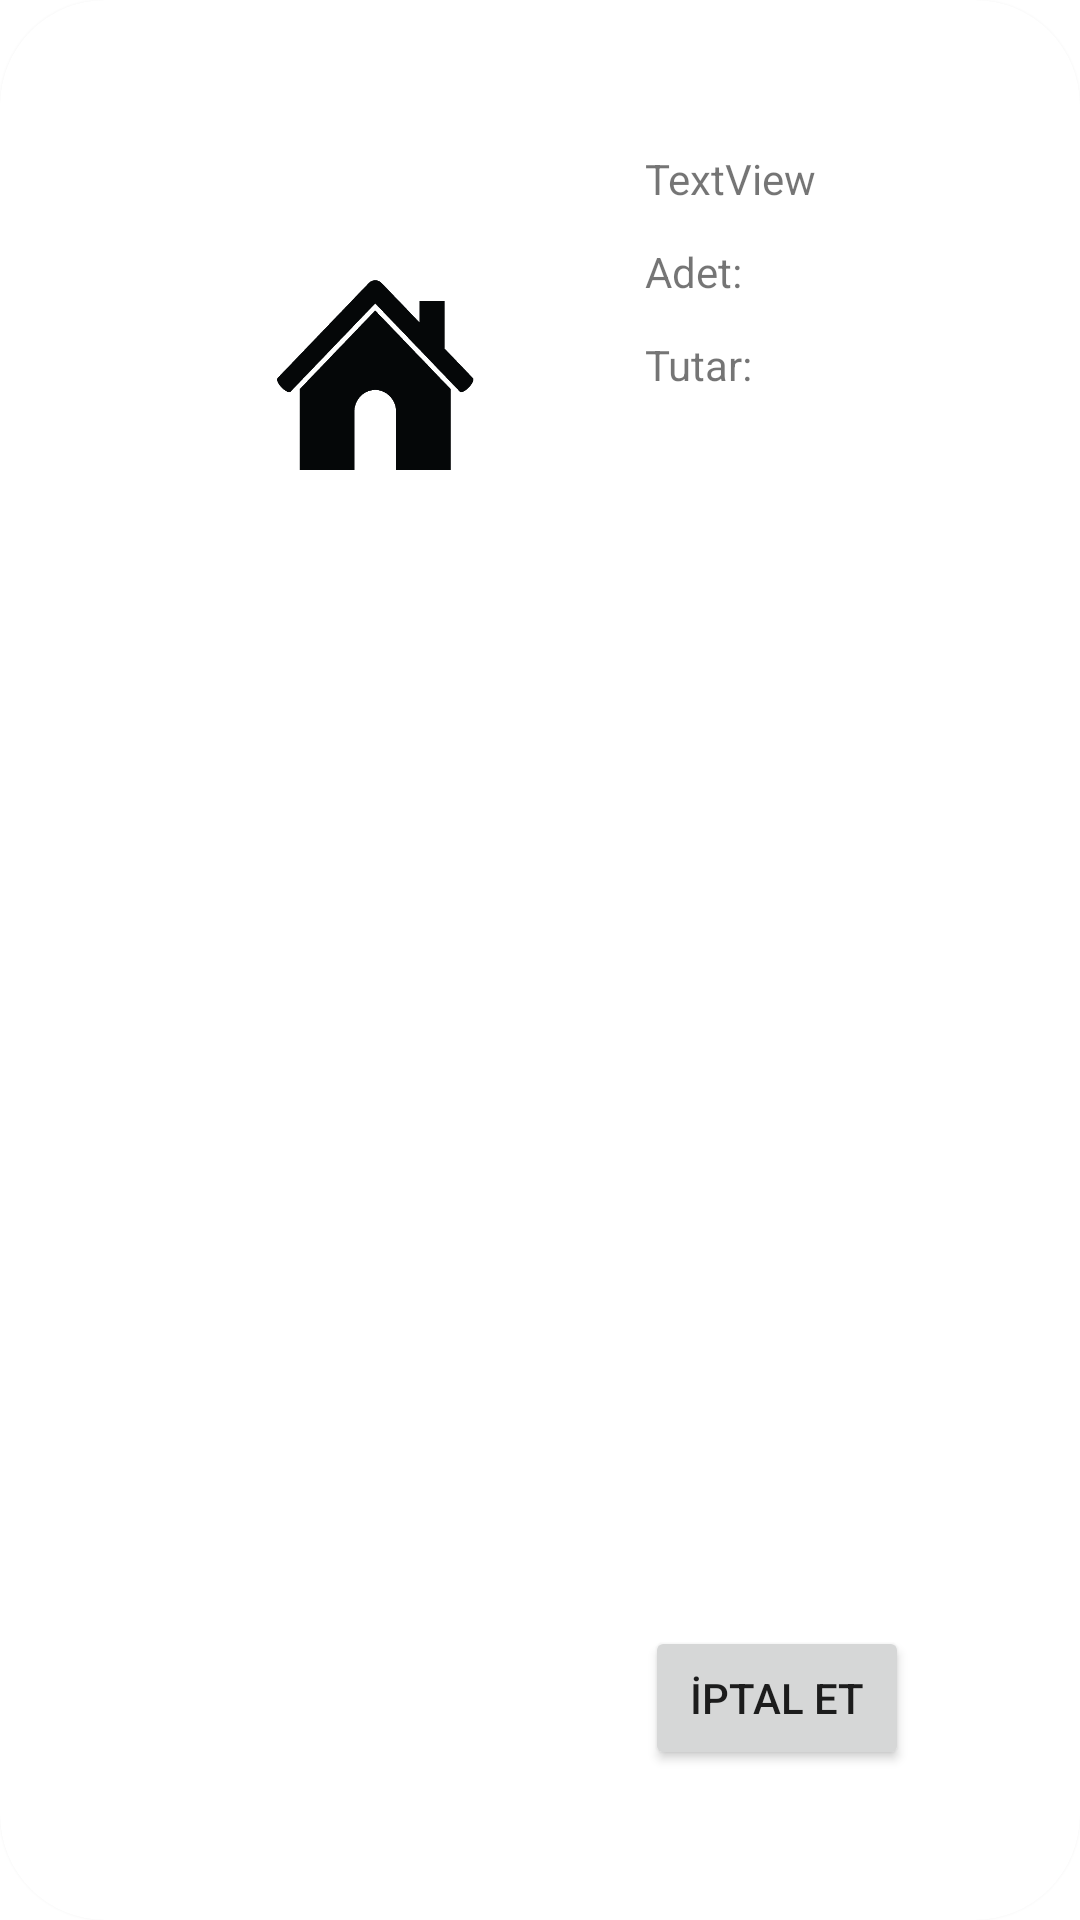

Screen size 1080w x 1920h. Icon name, then its box in pixels as (x1, y1, x2, y2):
home: (277, 280, 474, 470)
